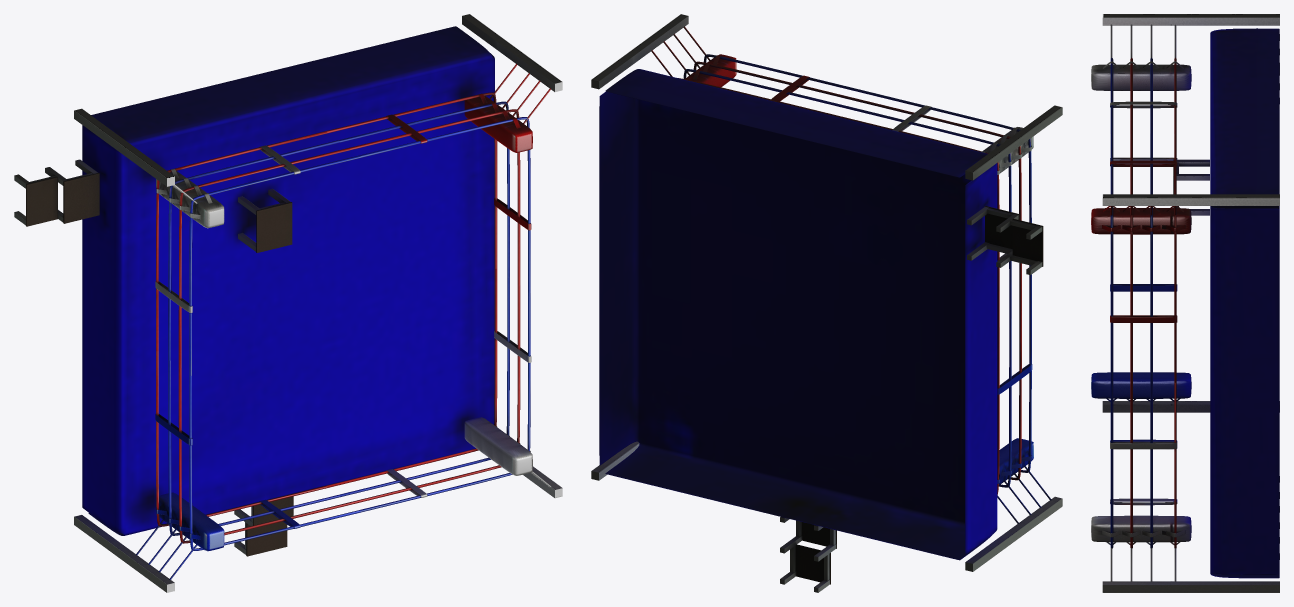
File: 10494_Regulation_Boxing_Ring_SG_V1_Max2011_it2.obj
The picture shows the model from 3 angles, left to right: view 1: azimuth 30°, elevation 25°; view 2: azimuth 150°, elevation 25°; view 3: azimuth 270°, elevation 25°; orthographic projection. The views are drawn at different scales.
Parts seen in each view (by area): view 1: Regulation_Boxing_Ring_Canvas_SG; view 2: Regulation_Boxing_Ring_Canvas_SG; view 3: Regulation_Boxing_Ring_Canvas_SG.
Part boxes in pixels (bbox=[...]): Regulation_Boxing_Ring_Canvas_SG: bbox=[14, 14, 562, 592]; Regulation_Boxing_Ring_Canvas_SG: bbox=[591, 14, 1062, 592]; Regulation_Boxing_Ring_Canvas_SG: bbox=[1091, 14, 1279, 592].
Bounding box in the file's own units: 720 × 718 × 271.
